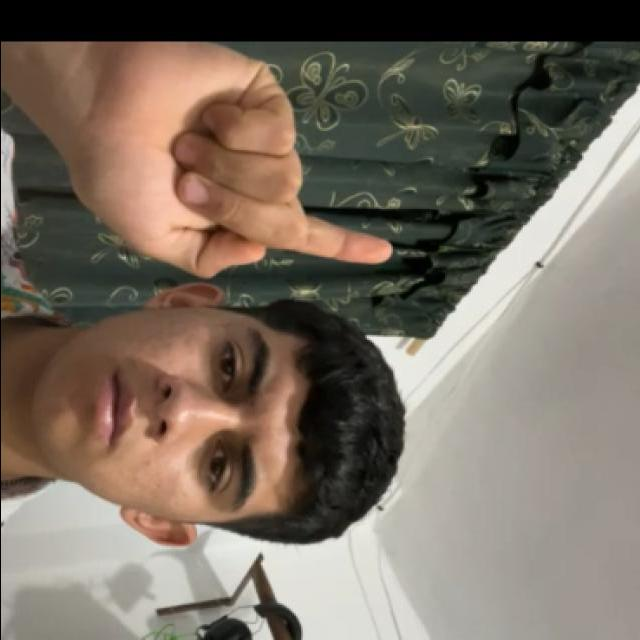D: (59, 45, 425, 318)
